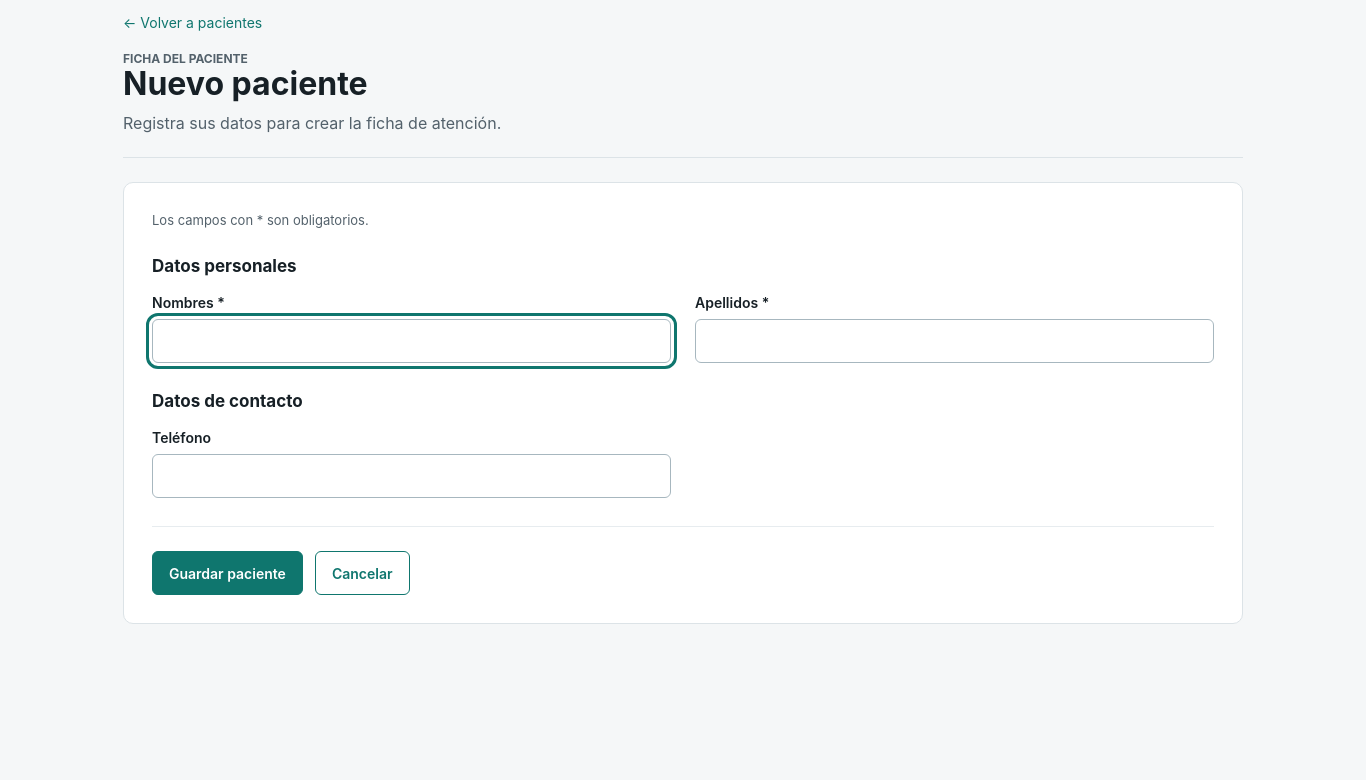
Test: gestion de pacientes › muestra un fallo al guardar sin perder lo escrito
Step 1. Type "Ana" into the field labelled "Nombres *" → (412, 341), box [152,319,671,363]
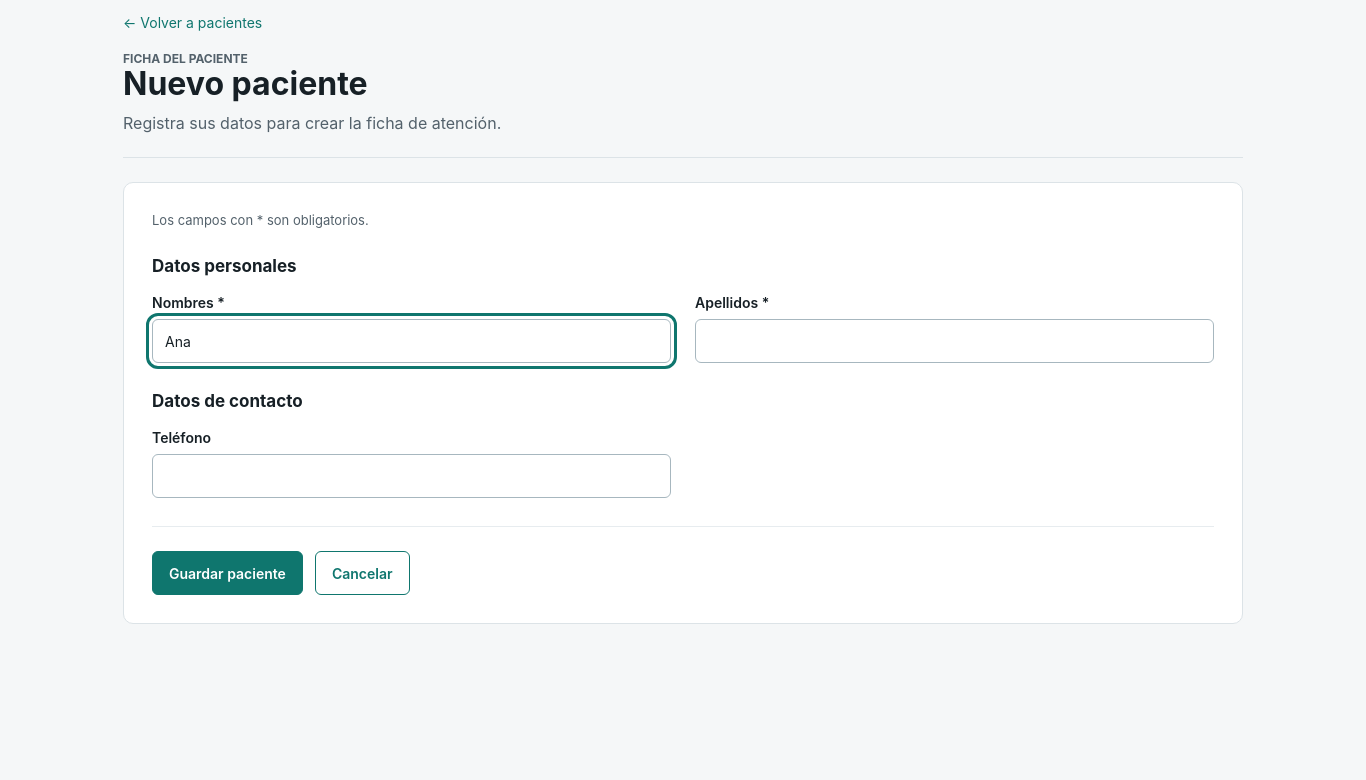
Step 2. Type "Perez" into the field labelled "Apellidos *" → (954, 341), box [695,319,1214,363]
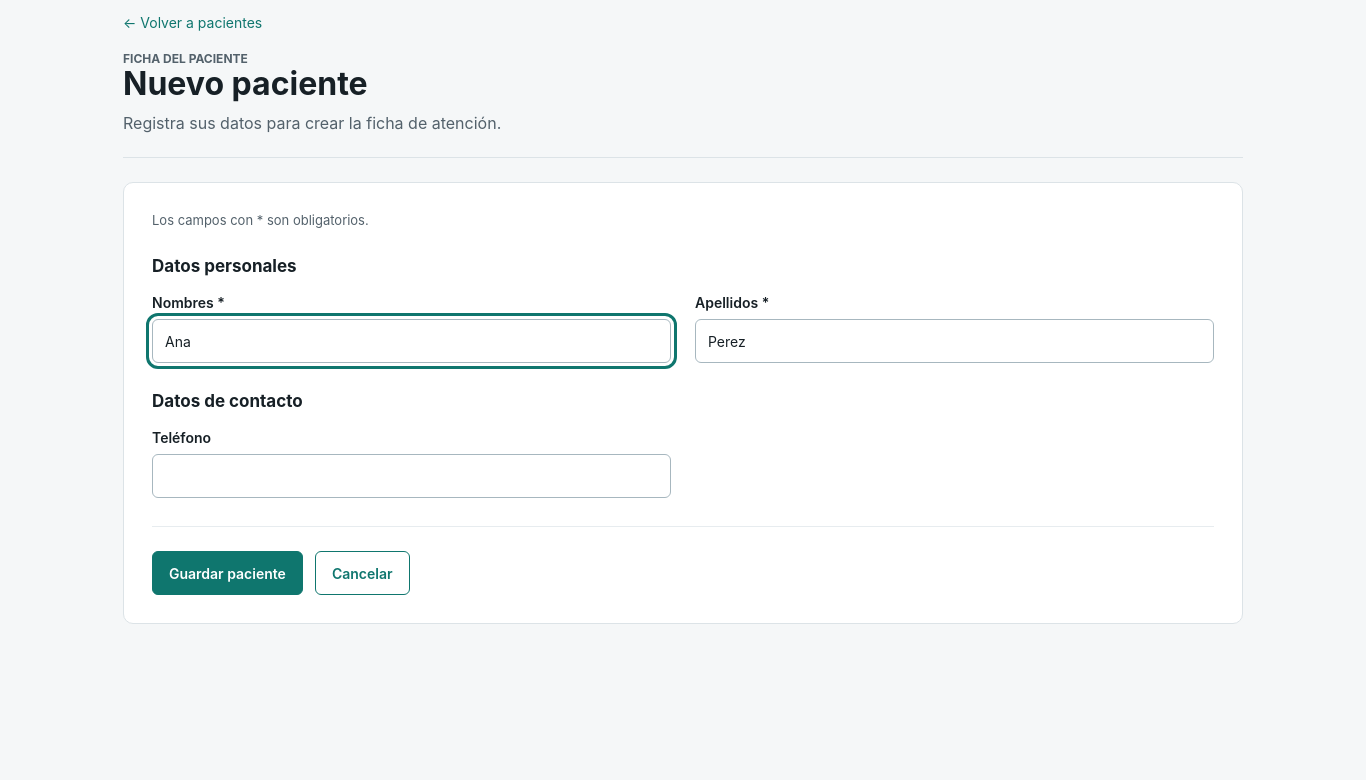
Step 3. Click the button "Guardar paciente" → (227, 573), box [152,551,303,595]
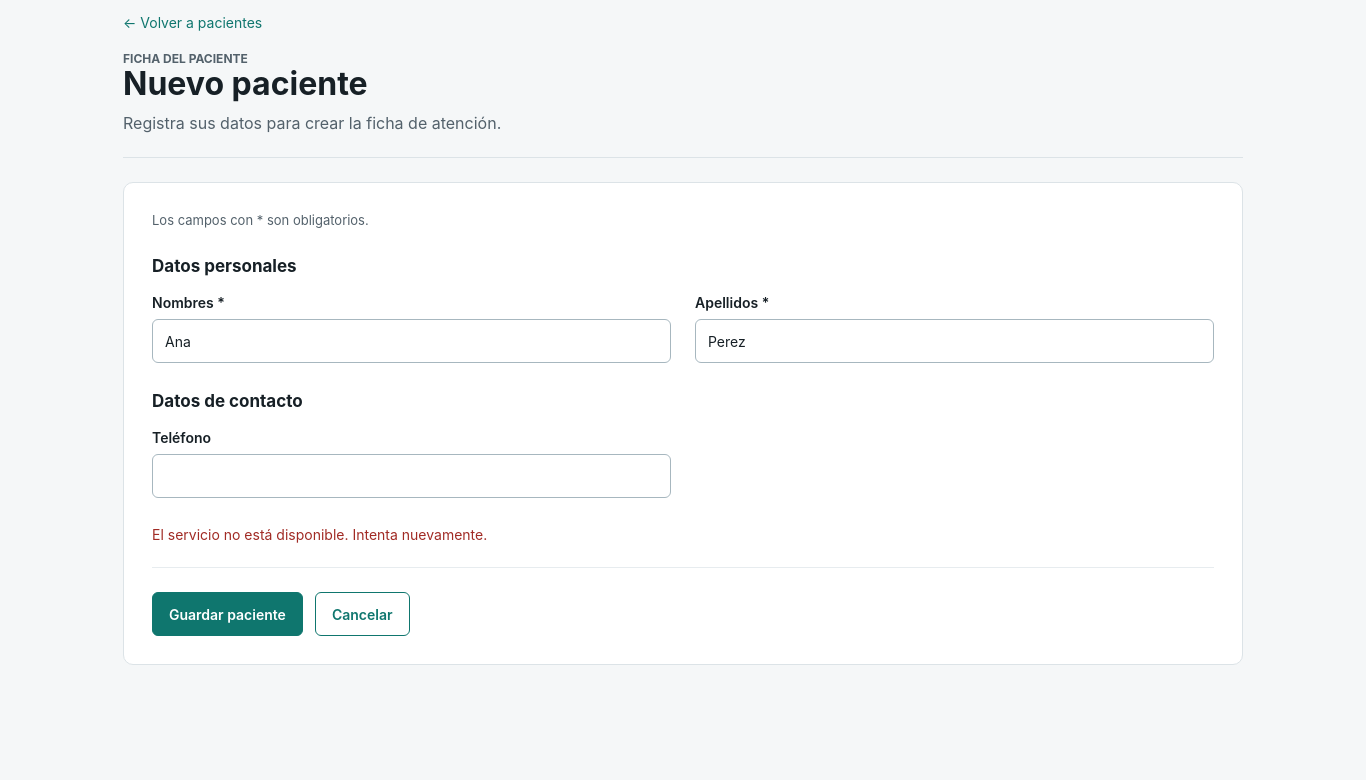
Expected: the message shows "El servicio no está disponible", [152,526,487,543]
